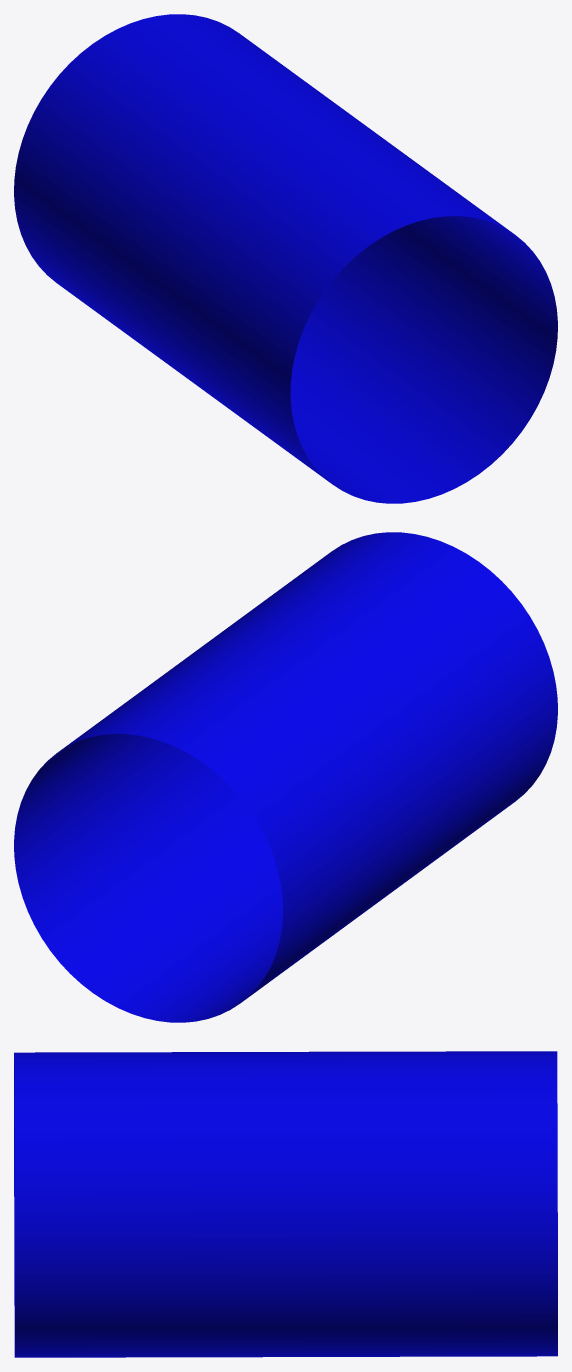
The model's file is CentroDerHidro.fbx.
The picture shows the model from 3 angles, top to bottom: view 1: azimuth 30°, elevation 25°; view 2: azimuth 150°, elevation 25°; view 3: azimuth 270°, elevation 25°; orthographic projection.
Visible parts, largest first — view 1: Mesh.004; view 2: Mesh.004; view 3: Mesh.004.
Boxes of the visible parts, <box> form: Mesh.004: <box>14,14,557,503</box>; Mesh.004: <box>14,532,557,1022</box>; Mesh.004: <box>14,1051,557,1357</box>.
Size of the model in its own units: 113 by 113 by 200.
